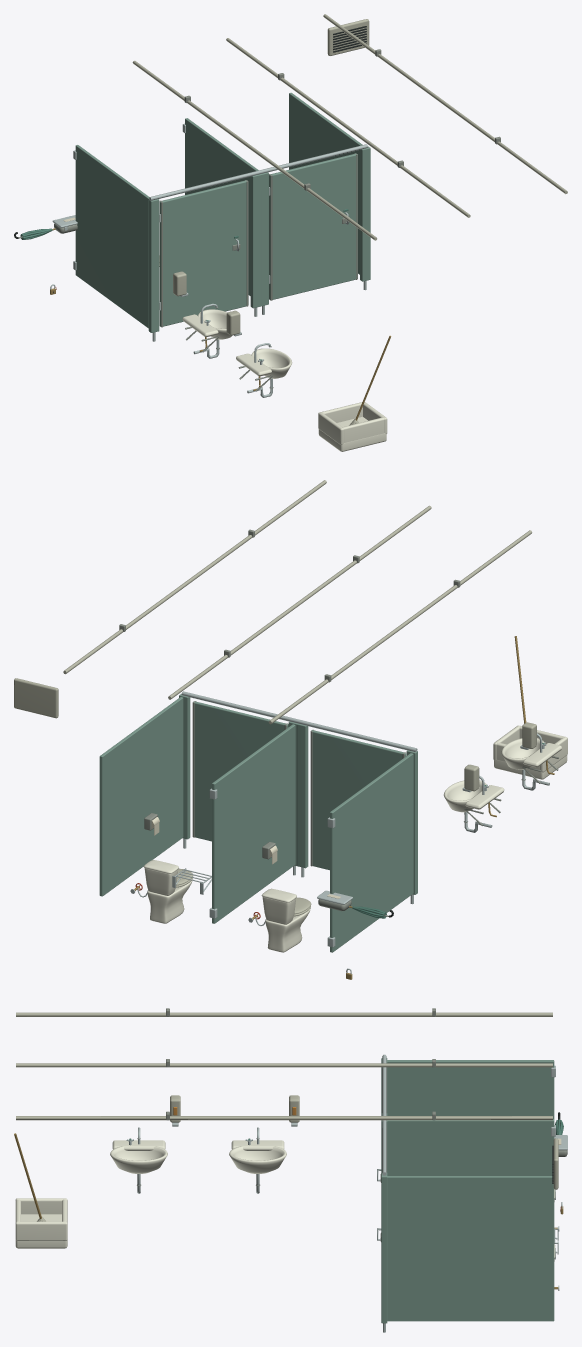
The model's file is washroom.glb.
The picture shows the model from 3 angles, top to bottom: view 1: azimuth 30°, elevation 25°; view 2: azimuth 150°, elevation 25°; view 3: azimuth 270°, elevation 25°; orthographic projection. The views are drawn at different scales.
Visible parts, largest first — view 1: Architecture, Stall2, Stall1, Basin2, Basin1, PropertyRack; view 2: Architecture, Stall1, Stall2, Basin1, Basin2, Pan1, Pan2, PropertyRack, Tank1, Tank2; view 3: Architecture, Basin1, Basin2.
Boxes of the visible parts, bbox=[...] form: Architecture: bbox=[73, 14, 567, 451]; Stall2: bbox=[269, 153, 357, 300]; Stall1: bbox=[159, 180, 248, 327]; Basin2: bbox=[236, 343, 292, 378]; Basin1: bbox=[182, 303, 232, 339]; PropertyRack: bbox=[14, 215, 77, 239]; Architecture: bbox=[14, 480, 567, 952]; Stall1: bbox=[310, 729, 406, 870]; Stall2: bbox=[192, 701, 288, 841]; Basin1: bbox=[443, 775, 504, 812]; Basin2: bbox=[501, 733, 561, 769]; Pan1: bbox=[265, 906, 310, 952]; Pan2: bbox=[147, 878, 192, 923]; PropertyRack: bbox=[317, 890, 393, 918]; Tank1: bbox=[262, 897, 295, 924]; Tank2: bbox=[144, 868, 177, 895]; Architecture: bbox=[14, 1008, 559, 1332]; Basin1: bbox=[229, 1127, 286, 1173]; Basin2: bbox=[110, 1127, 167, 1173].
Bounding box in the file's own units: 5.49 × 3.28 × 6.71.
